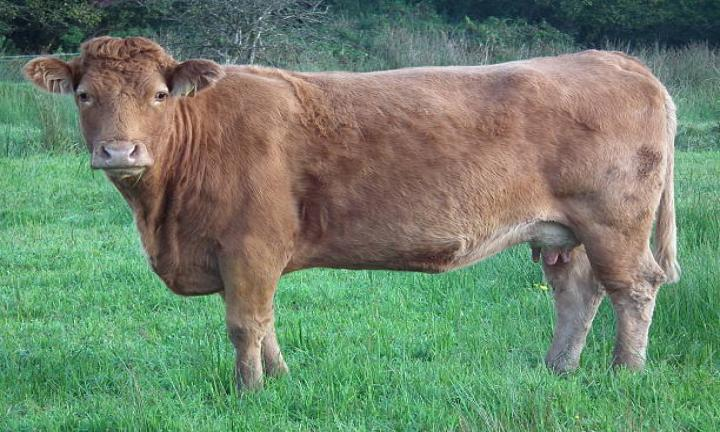Charolais: (25, 37, 678, 386)
